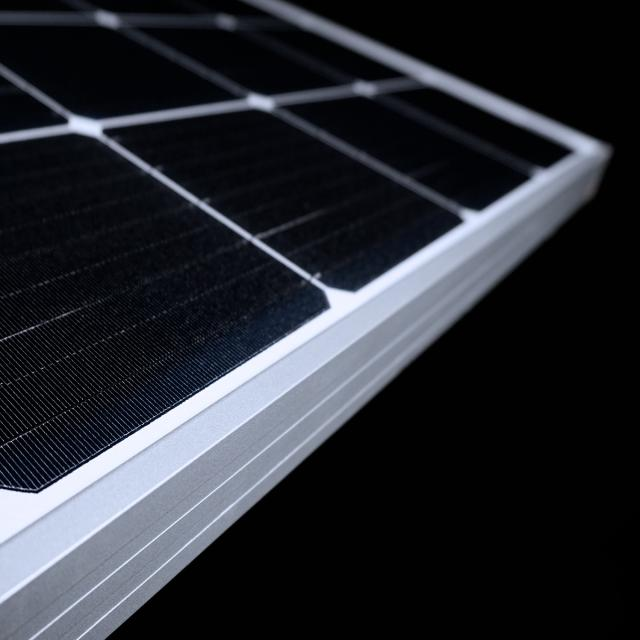clean-solar-panel: (289, 98, 526, 211)
